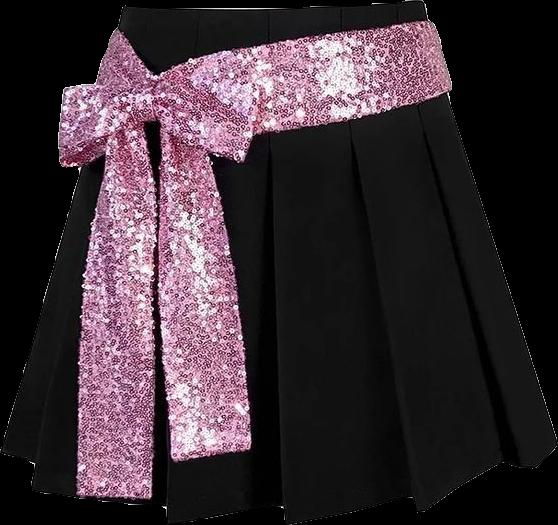Hemline: (0, 442, 557, 524)
Waistline: (122, 0, 426, 16)
